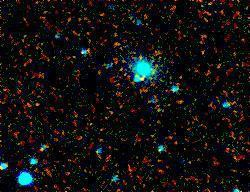star: (126, 65, 156, 95)
